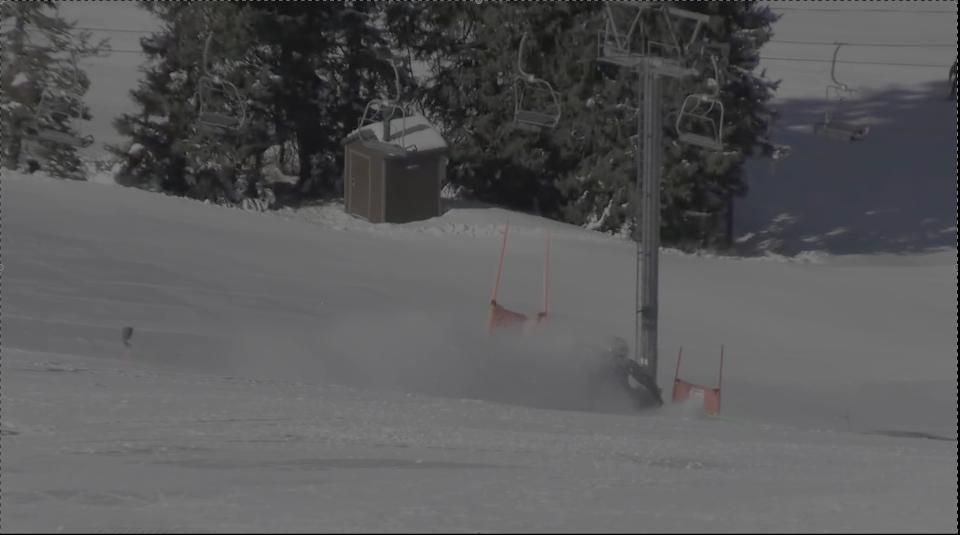gate: (480, 205, 515, 388), (526, 216, 555, 385), (664, 331, 691, 413), (708, 331, 727, 419)
